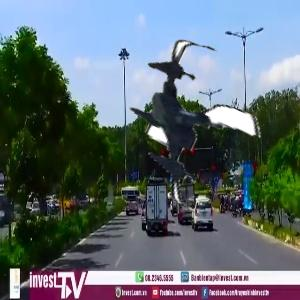drone: (109, 44, 269, 204)
